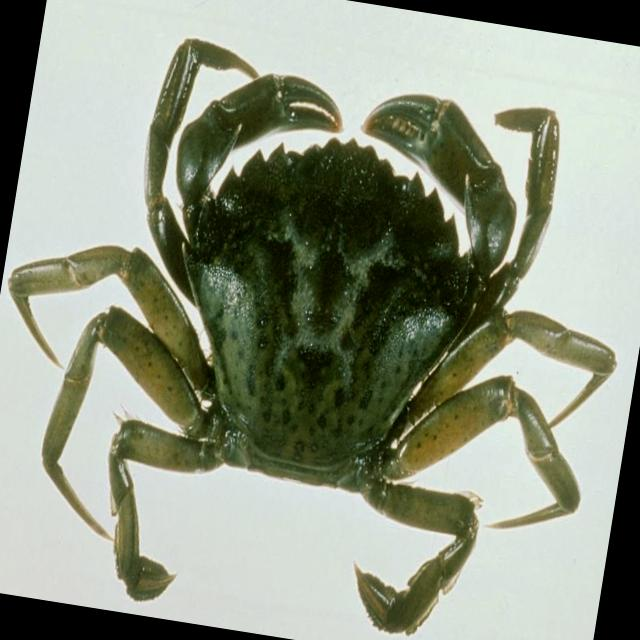green_crab: (8, 38, 614, 632)
